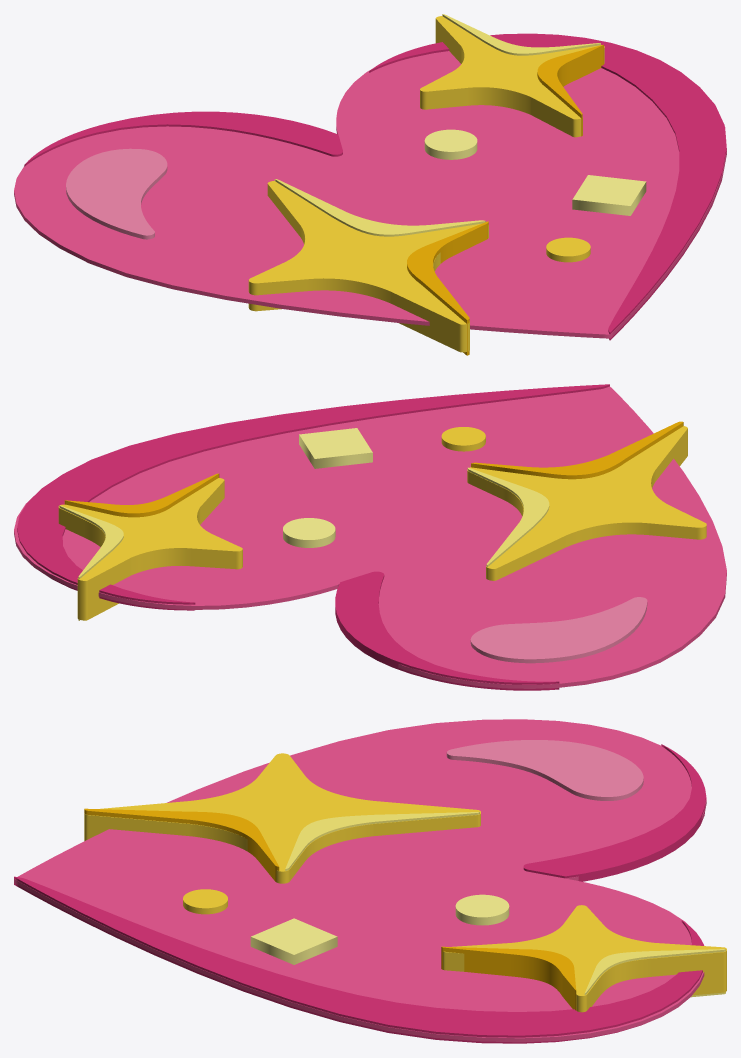
The model's file is emoji_u1f496.glb.
The picture shows the model from 3 angles, top to bottom: view 1: azimuth 30°, elevation 25°; view 2: azimuth 150°, elevation 25°; view 3: azimuth 270°, elevation 25°; orthographic projection.
Visible parts, largest first — view 1: emoji_u1f496; view 2: emoji_u1f496; view 3: emoji_u1f496.
Part boxes in pixels (x1=…): emoji_u1f496: x1=14, y1=14, x2=726, y2=355; emoji_u1f496: x1=14, y1=384, x2=726, y2=690; emoji_u1f496: x1=14, y1=719, x2=726, y2=1043.
Bounding box in the file's own units: 0.0339 × 0.0024 × 0.032.
